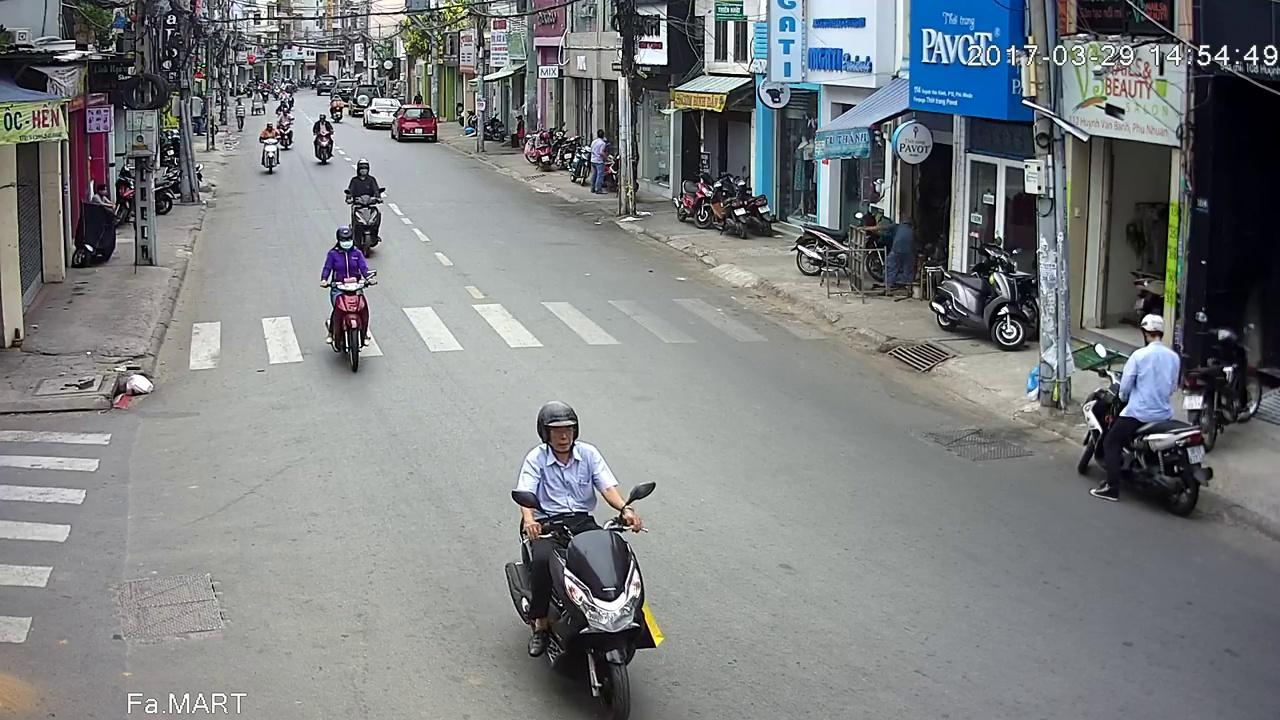xe hoi: (390, 107, 440, 144)
xe may: (506, 369, 660, 720), (1077, 312, 1215, 521), (314, 220, 380, 368), (343, 154, 385, 255), (313, 112, 338, 165), (261, 122, 283, 177), (274, 111, 295, 155)
